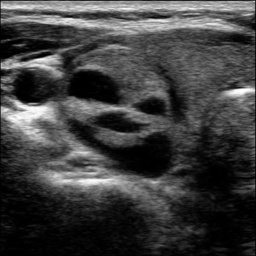mass: (64, 47, 182, 176)
